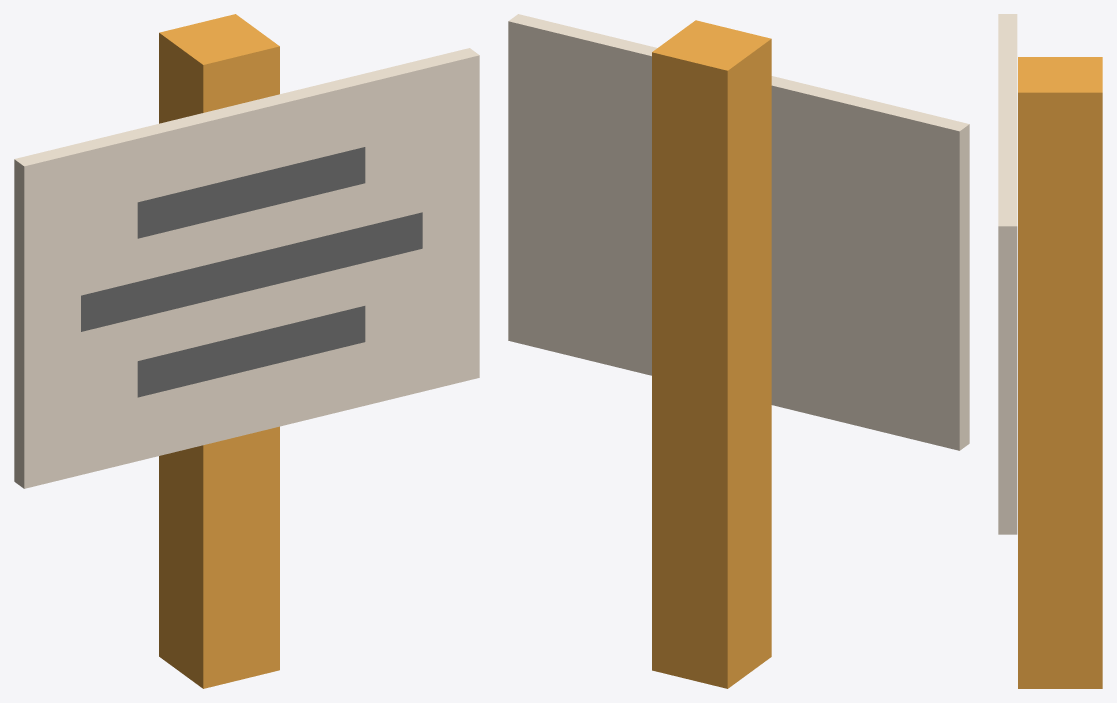
The model's file is placard.glb.
3 renders of one model, left to right at view 1: azimuth 30°, elevation 25°; view 2: azimuth 150°, elevation 25°; view 3: azimuth 270°, elevation 25°, orthographic. The views are drawn at different scales.
Parts seen in each view (by area): view 1: Cube.6288; view 2: Cube.6288; view 3: Cube.6288.
Part boxes in pixels (x1,y1,x2,y2): Cube.6288: (14,14,479,688); Cube.6288: (508,14,969,688); Cube.6288: (998,14,1102,688).
Size of the model in its own units: 1.67 by 2.19 by 0.3469.
Materials: 1 (1 with a texture image).
